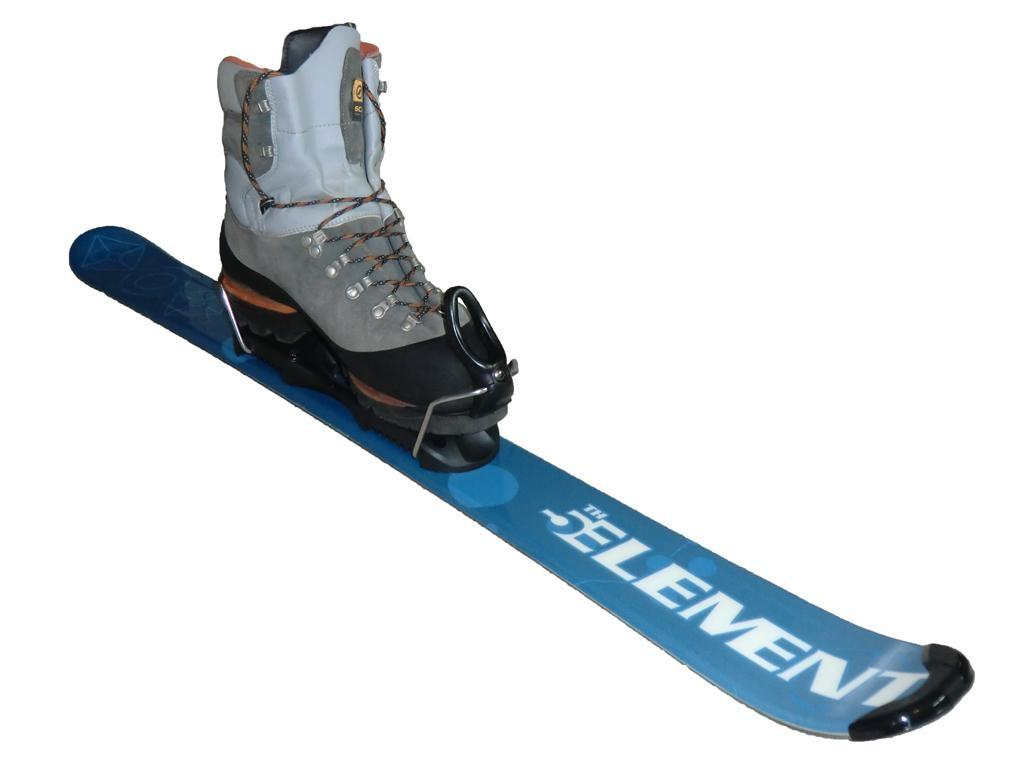Skis: (42, 161, 978, 754)
